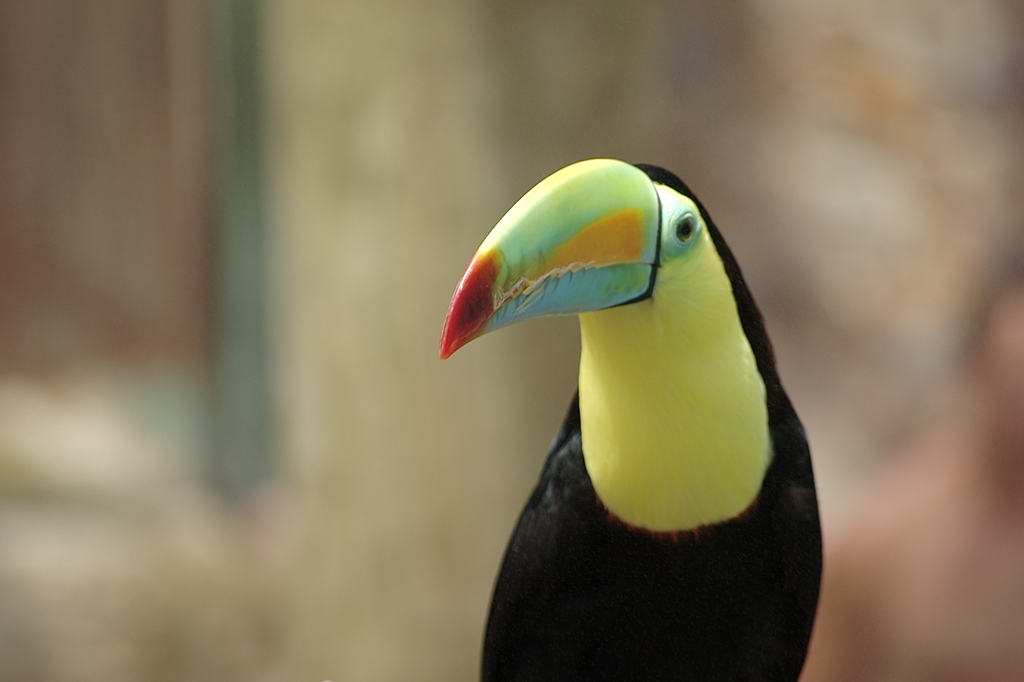Bird: (441, 157, 825, 682)
